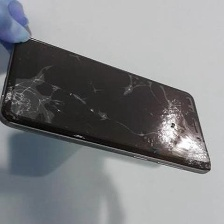phone: (0, 29, 218, 177)
